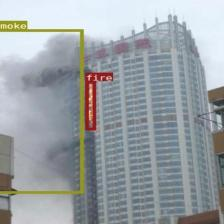fire: (85, 80, 95, 130)
smoke: (0, 29, 83, 193)
